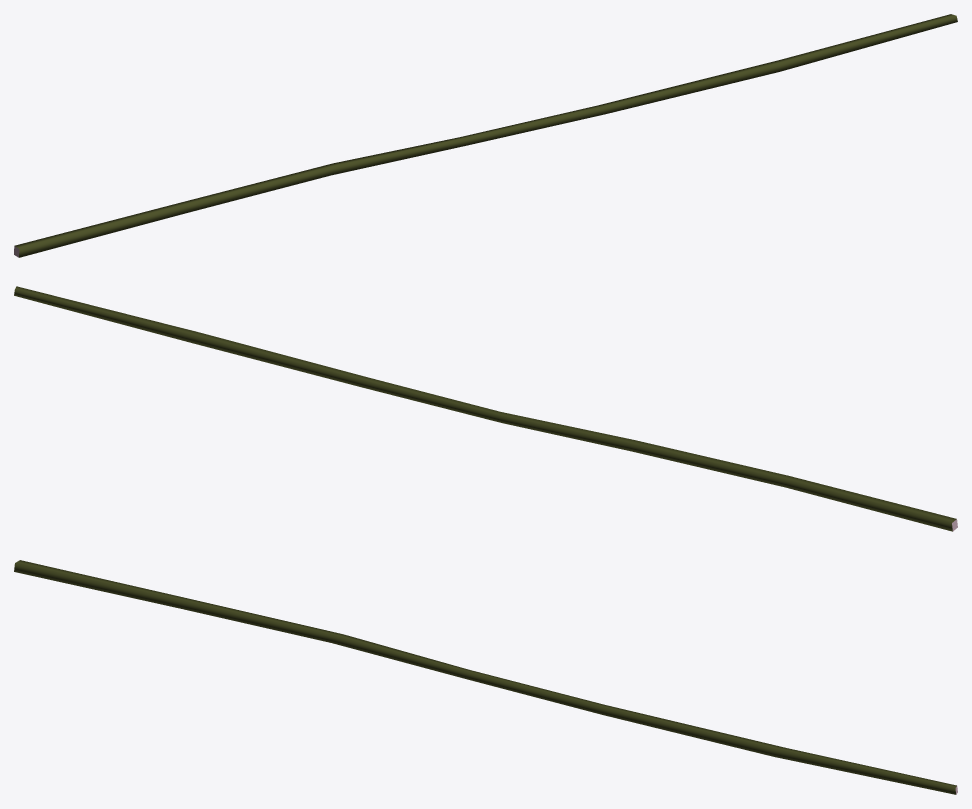
File: woodenPoleXLong_willow.glb
The picture shows the model from 3 angles, top to bottom: view 1: azimuth 30°, elevation 25°; view 2: azimuth 150°, elevation 25°; view 3: azimuth 330°, elevation 25°; orthographic projection.
Parts seen in each view (by area): view 1: Cube.001; view 2: Cube.001; view 3: Cube.001.
Boxes of the visible parts, bbox=[...] form: Cube.001: bbox=[14, 14, 957, 257]; Cube.001: bbox=[14, 286, 957, 531]; Cube.001: bbox=[14, 560, 957, 794].
Bounding box in the file's own units: 5 × 0.0676 × 0.0796.
